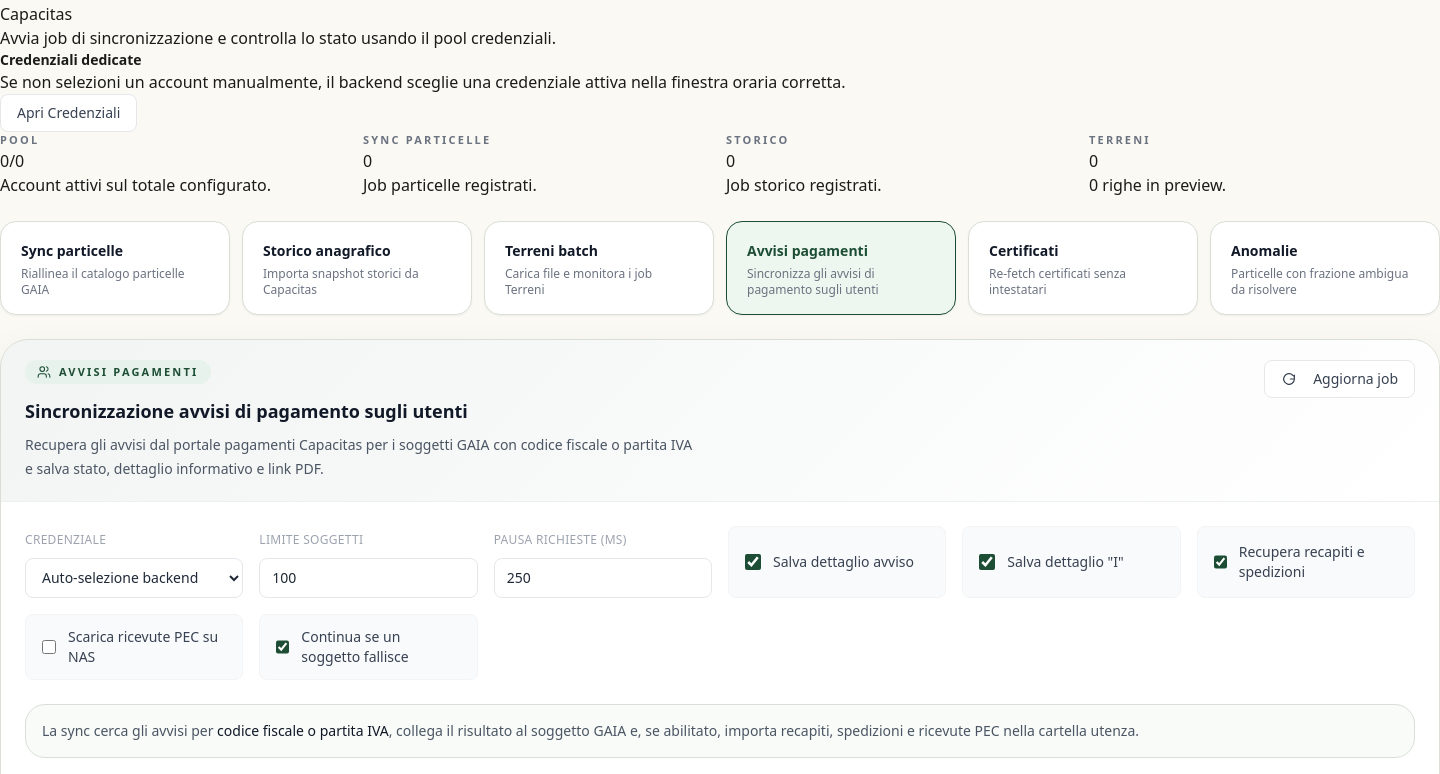
Test: Capacitas inCASS real monitor polling › does not announce an unrelated terminal job as completion of a tracked active ID
This screenshot has width=1440, height=774.
Step 1. Click the button "Aggiorna job" → (1340, 378), box [1264, 360, 1415, 398]
(page scrolled)
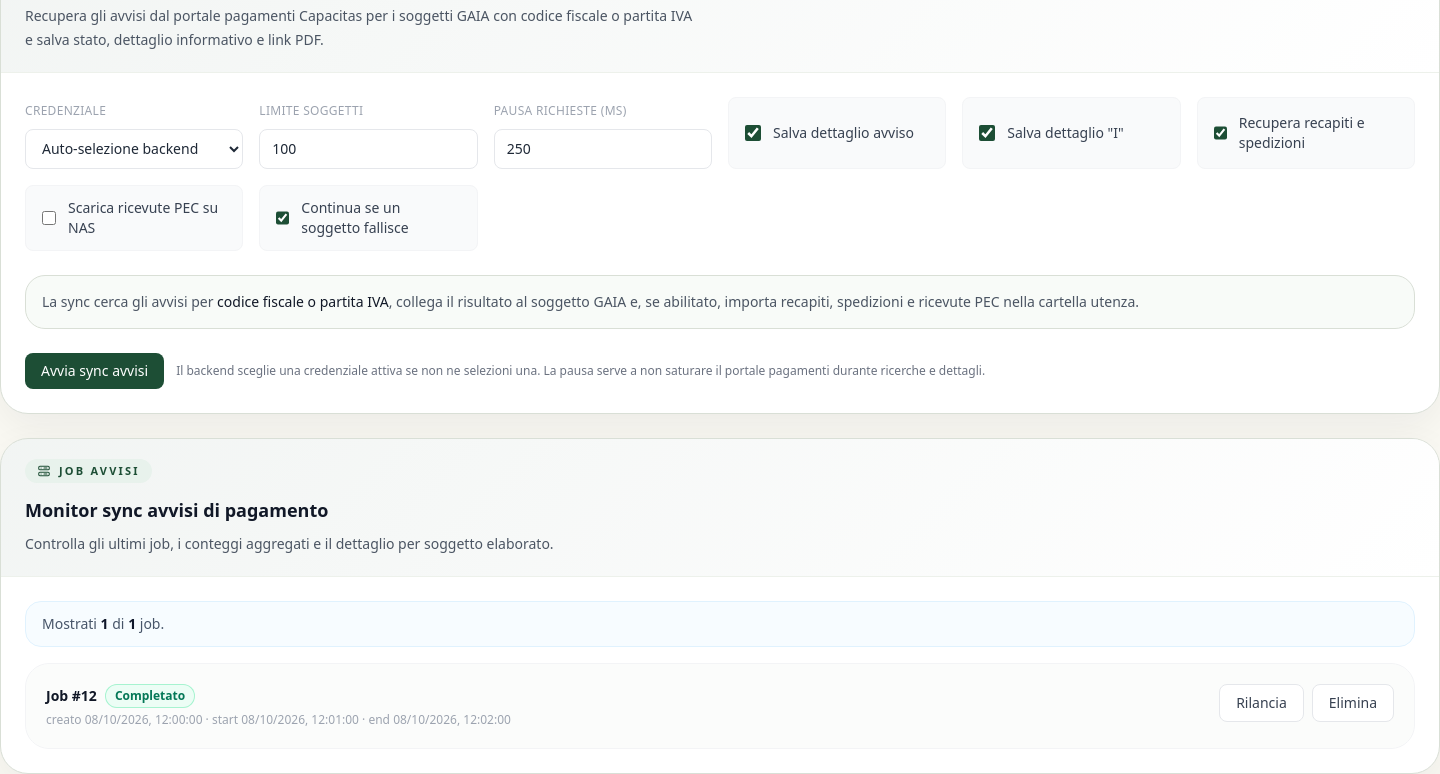
Check: the text "Job #12" is shown, box [46, 686, 97, 706]
